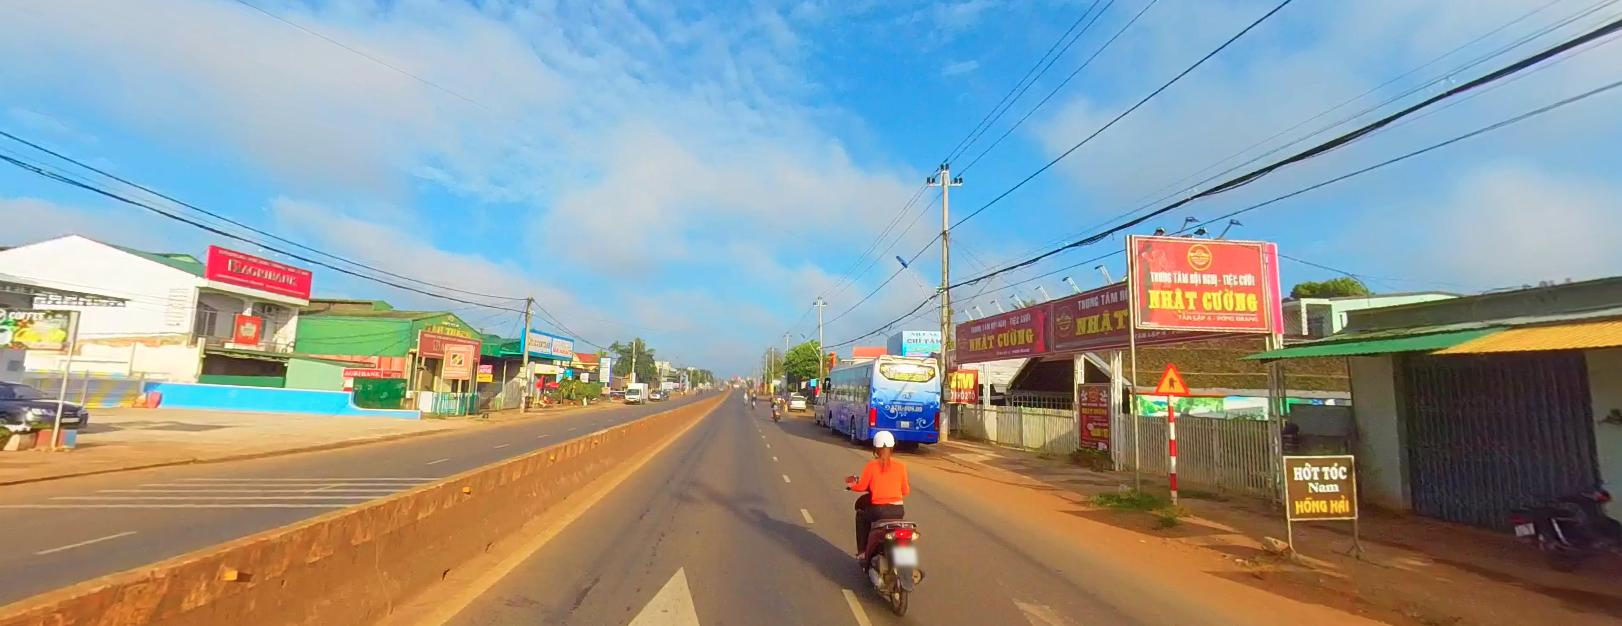Nguy hiem: (1154, 361, 1188, 394)
